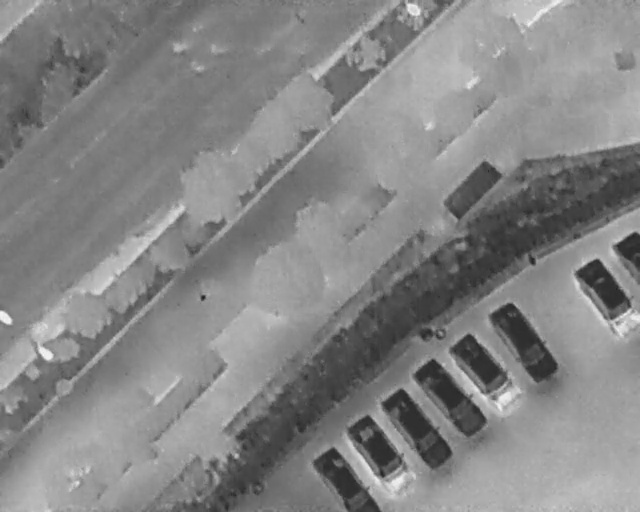Car: (404, 349, 496, 447), (373, 379, 463, 479), (441, 325, 531, 421), (482, 292, 565, 390), (339, 406, 420, 498), (570, 257, 639, 342), (309, 444, 383, 510), (612, 230, 639, 286)
